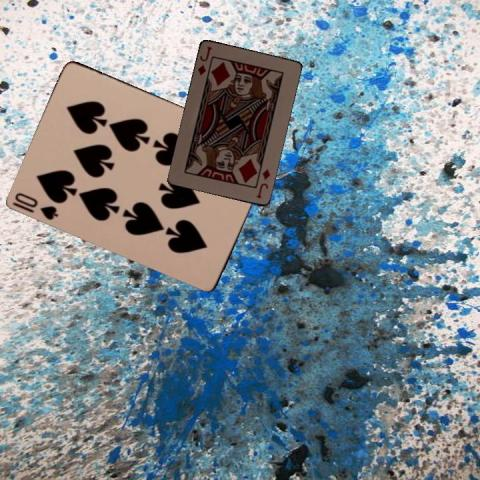10s: (12, 190, 60, 222)
Jd: (253, 166, 272, 199), (195, 43, 213, 77)
